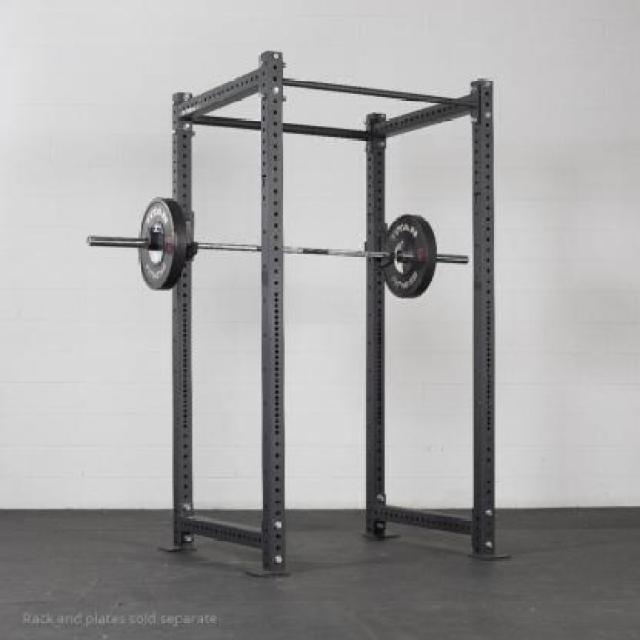barbell: (76, 191, 177, 294)
